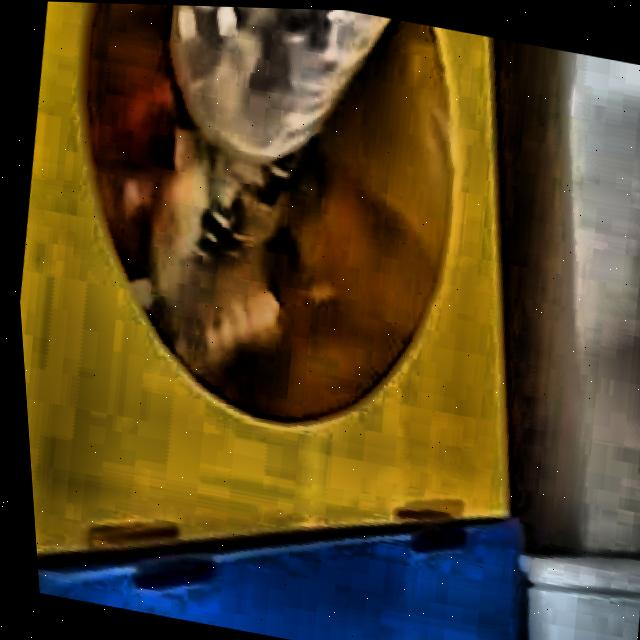plastic: (169, 4, 390, 162)
